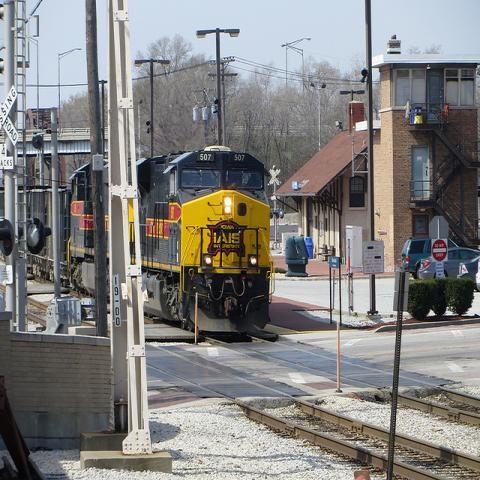car: (416, 246, 480, 282), (400, 238, 458, 277), (475, 262, 480, 291)
